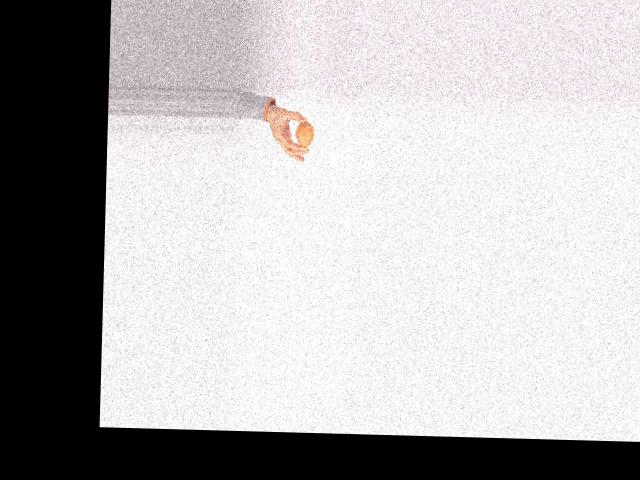egg: (296, 121, 314, 147)
